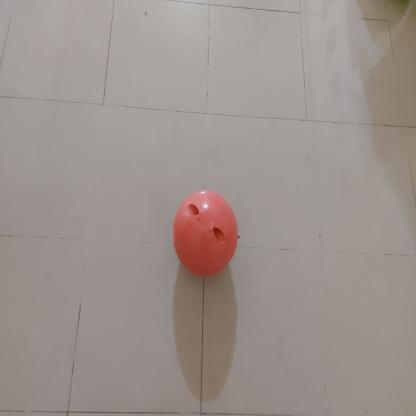red_buoy: (170, 189, 240, 279)
